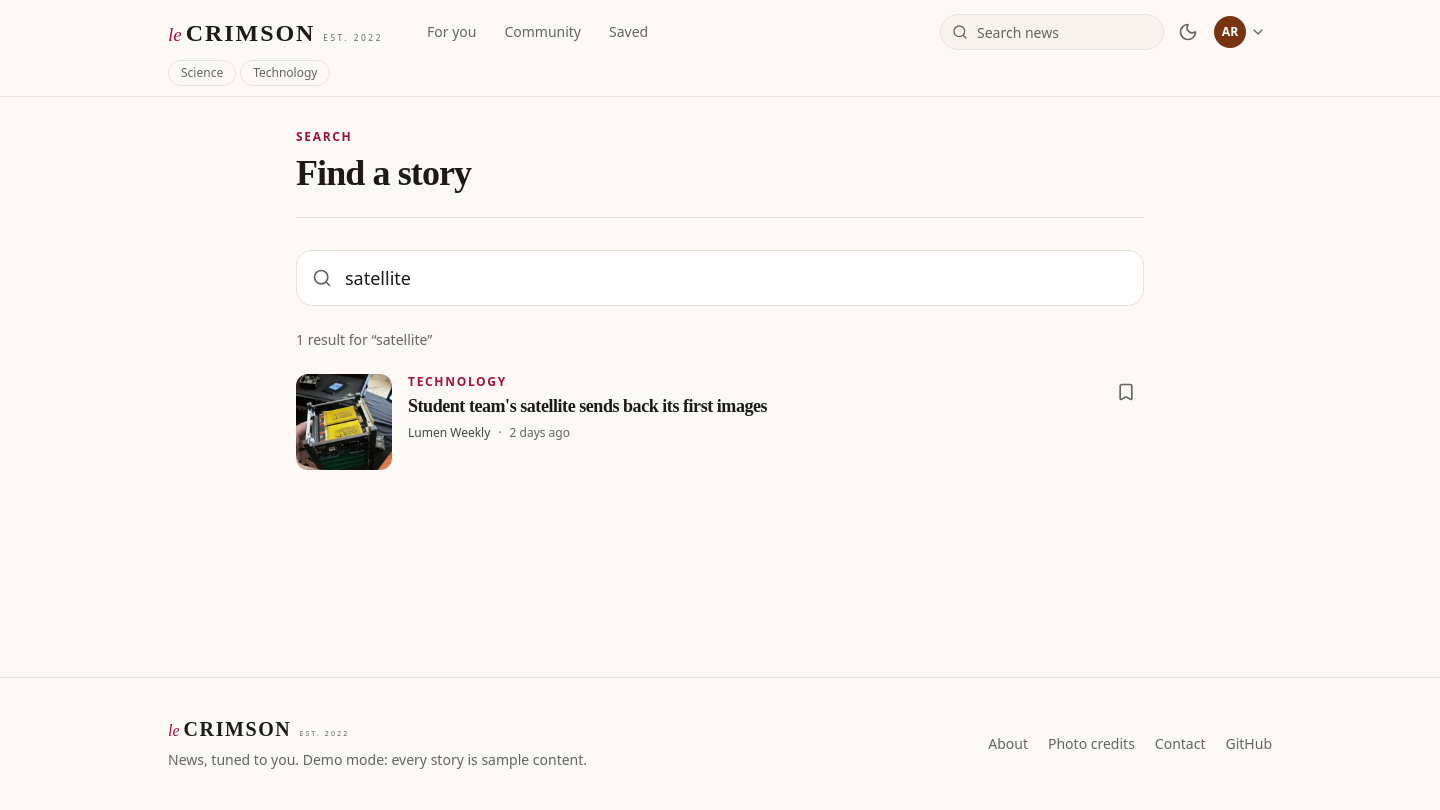
app journeys › searches, filters and saves a story
Expected: the link "Student team's satellite sends back its first images" is shown, [408,396,767,416]
Expected: the text "1 result for “satellite”" is shown, [296,330,432,350]
Click the button named "save “student team's satellite" at coordinates (1126, 392), box [1108,374,1144,410]
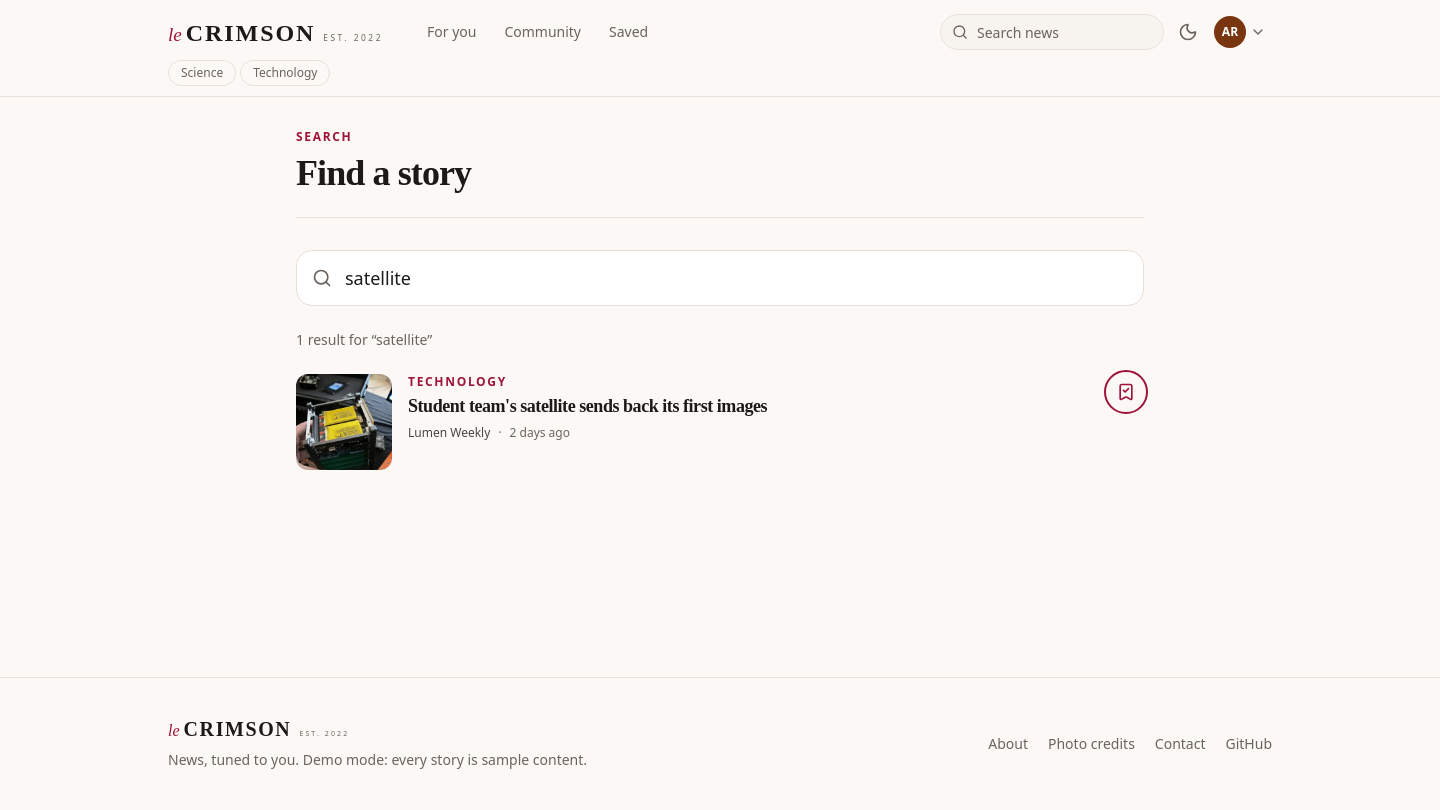
Click the link "Saved" at coordinates (629, 32), box [609,22,648,41]
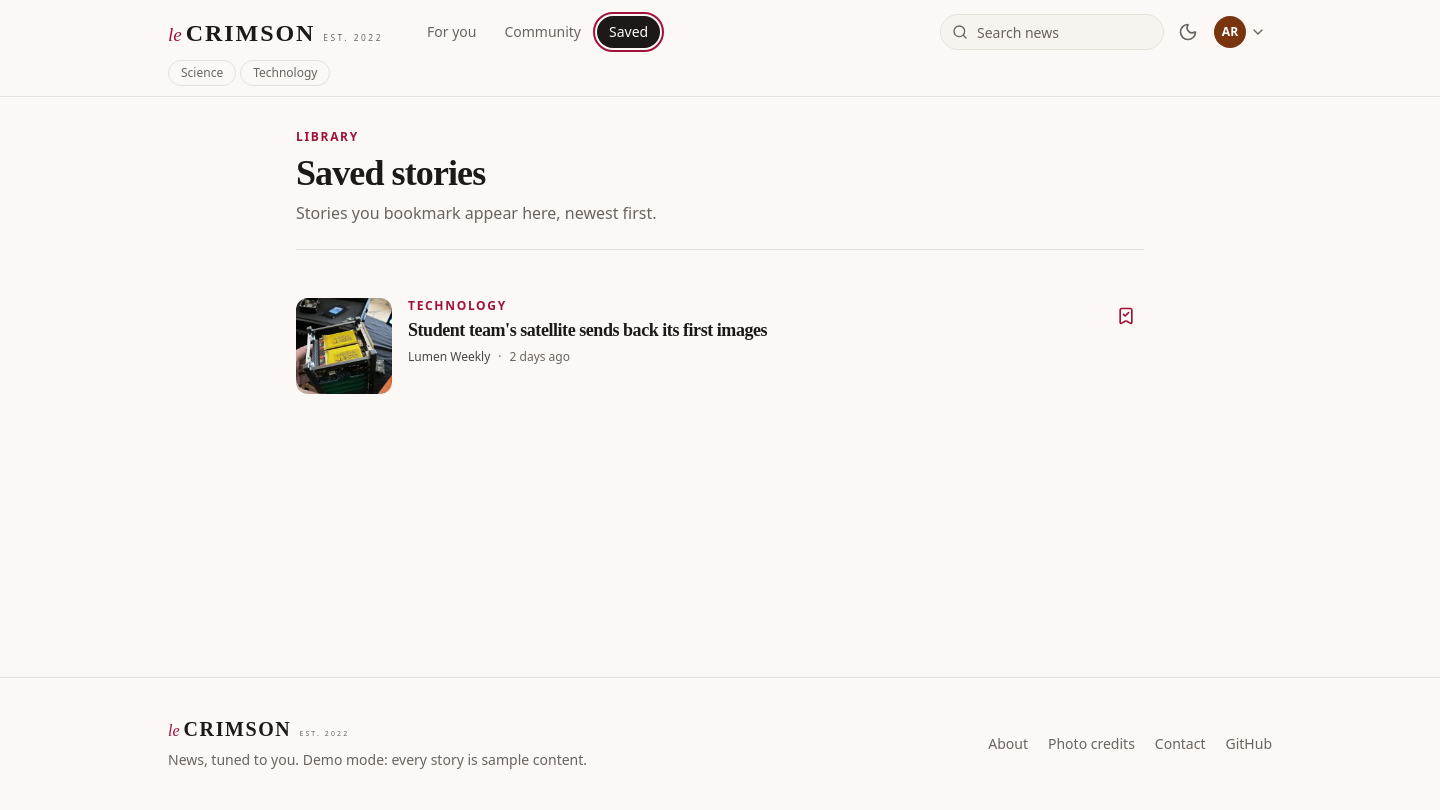
Expected: the link "Student team's satellite sends back its first images" is shown, [408,320,767,340]
Expected: the heading "Saved stories" is shown, [296,153,485,193]
